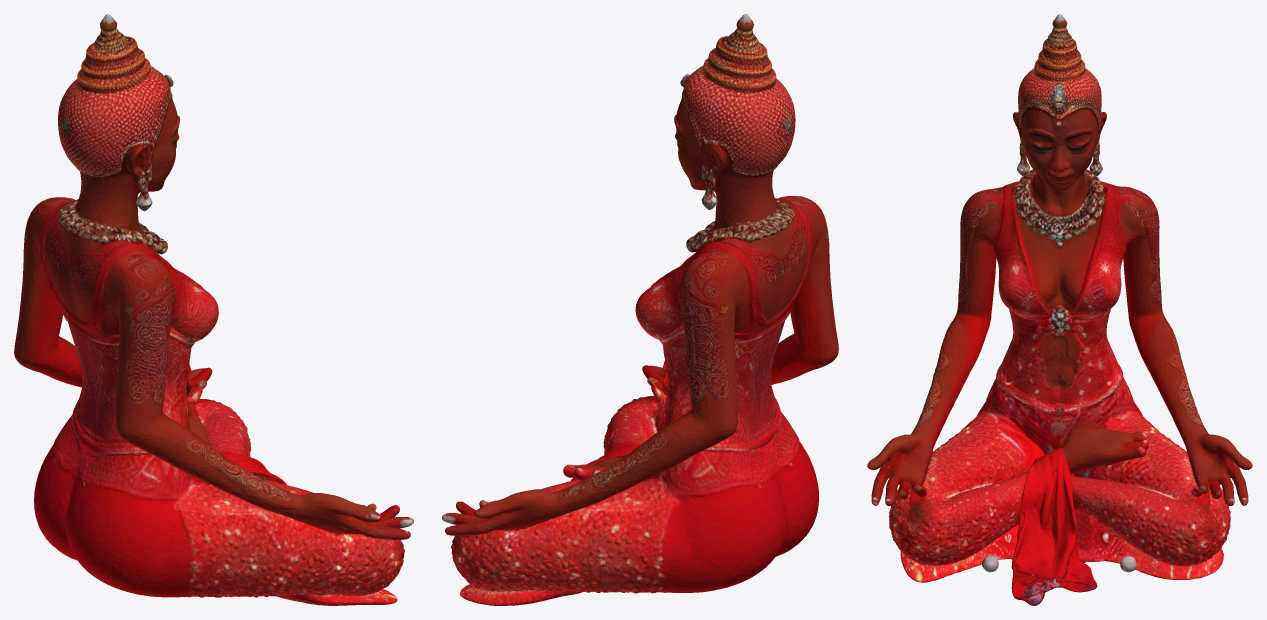
Rendered from modelo39.glb.
The picture shows the model from 3 angles, left to right: view 1: azimuth 30°, elevation 25°; view 2: azimuth 150°, elevation 25°; view 3: azimuth 270°, elevation 25°; orthographic projection. The views are drawn at different scales.
Parts seen in each view (by area): view 1: tripo_node_5988705c-0b5b-45b9-8fc4-52edaf475738; view 2: tripo_node_5988705c-0b5b-45b9-8fc4-52edaf475738; view 3: tripo_node_5988705c-0b5b-45b9-8fc4-52edaf475738.
Boxes of the visible parts, left/top/right/bottom form: tripo_node_5988705c-0b5b-45b9-8fc4-52edaf475738: left=14, top=14, right=413, bottom=605; tripo_node_5988705c-0b5b-45b9-8fc4-52edaf475738: left=442, top=14, right=838, bottom=605; tripo_node_5988705c-0b5b-45b9-8fc4-52edaf475738: left=867, top=14, right=1252, bottom=605.
Size of the model in its own units: 0.5266 by 1 by 0.7088.
1 material, 1 textured.
